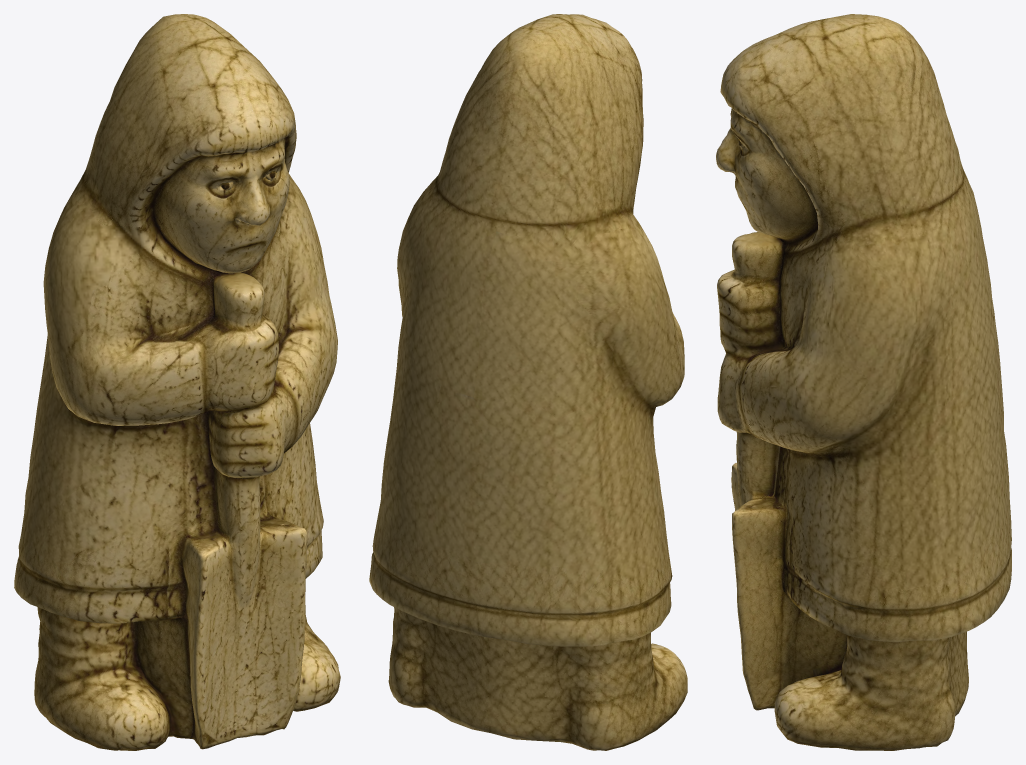
Rendered from farmer.glb.
The picture shows the model from 3 angles, left to right: view 1: azimuth 30°, elevation 25°; view 2: azimuth 150°, elevation 25°; view 3: azimuth 270°, elevation 25°; orthographic projection. The views are drawn at different scales.
Parts seen in each view (by area): view 1: mesh_node; view 2: mesh_node; view 3: mesh_node.
Boxes of the visible parts, x1,y1,x2,y2 form: mesh_node: [14, 14, 340, 750]; mesh_node: [369, 14, 687, 750]; mesh_node: [716, 14, 1011, 750].
Size of the model in its own units: 0.4326 by 1 by 0.3985.
Materials: 1 (1 with a texture image).
